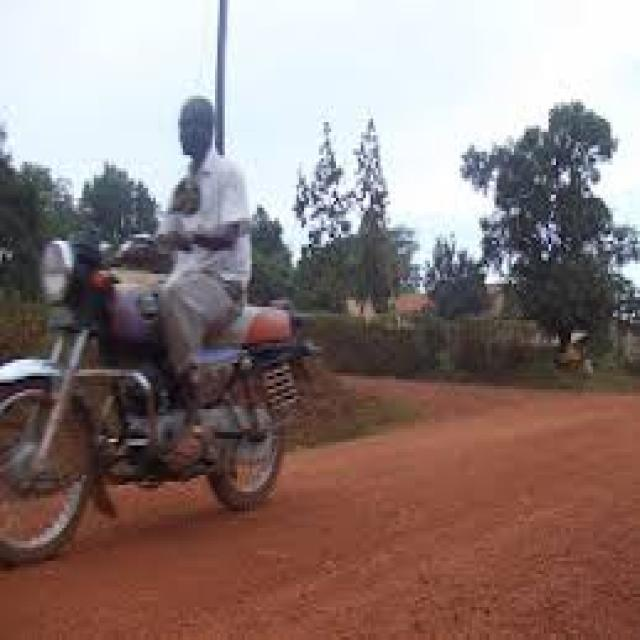bodaboda: (0, 188, 341, 604)
